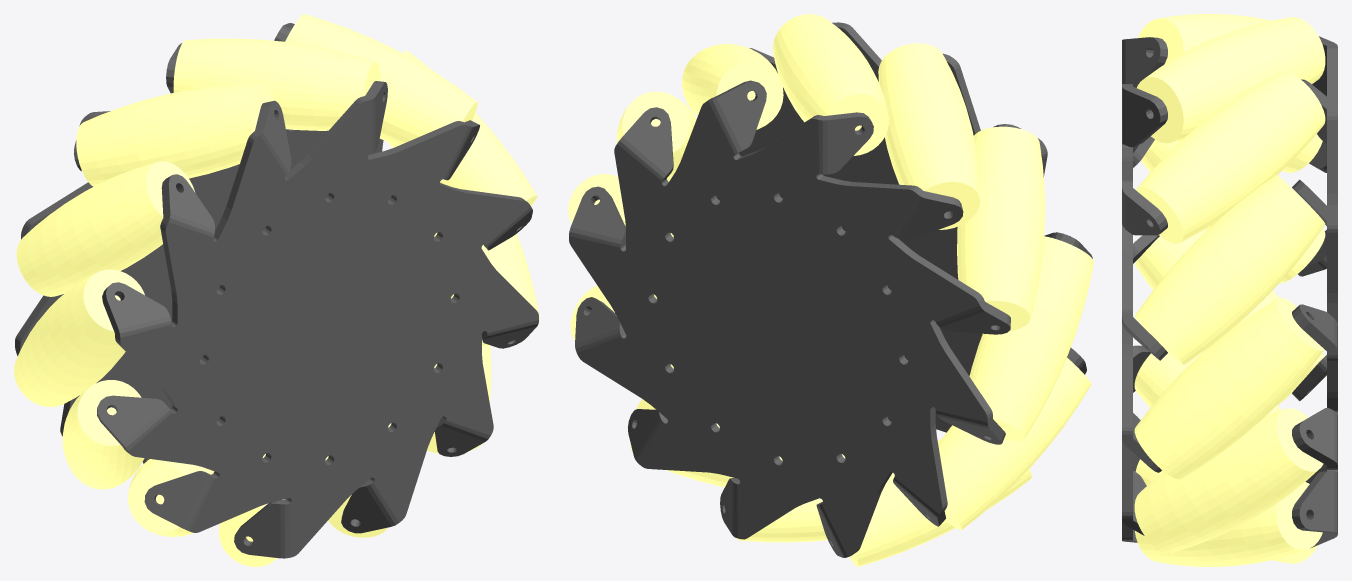
Rendered from wheel_BL.dae.
The picture shows the model from 3 angles, left to right: view 1: azimuth 30°, elevation 25°; view 2: azimuth 150°, elevation 25°; view 3: azimuth 270°, elevation 25°; orthographic projection. The views are drawn at different scales.
Parts seen in each view (by area): view 1: mecawheelB__llantas__1_, mecawheelB__rollers_; view 2: mecawheelB__llantas__1_, mecawheelB__rollers_; view 3: mecawheelB__rollers_, mecawheelB__llantas__1_.
Part boxes in pixels (x1,y1,x2,y2): mecawheelB__llantas__1_: [15, 23, 538, 558]; mecawheelB__rollers_: [14, 14, 539, 566]; mecawheelB__llantas__1_: [569, 22, 1092, 557]; mecawheelB__rollers_: [568, 14, 1093, 566]; mecawheelB__rollers_: [1134, 14, 1325, 566]; mecawheelB__llantas__1_: [1122, 36, 1337, 548].
Bounding box in the file's own units: 0.2539 × 0.099 × 0.2539.
